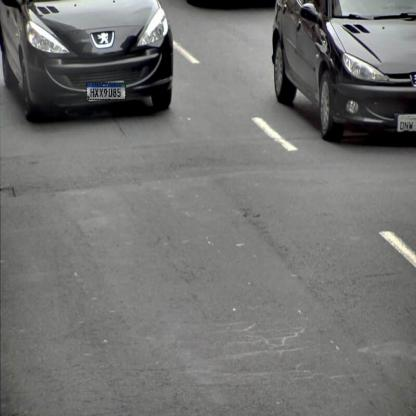PlacaM: (86, 82, 126, 100)
